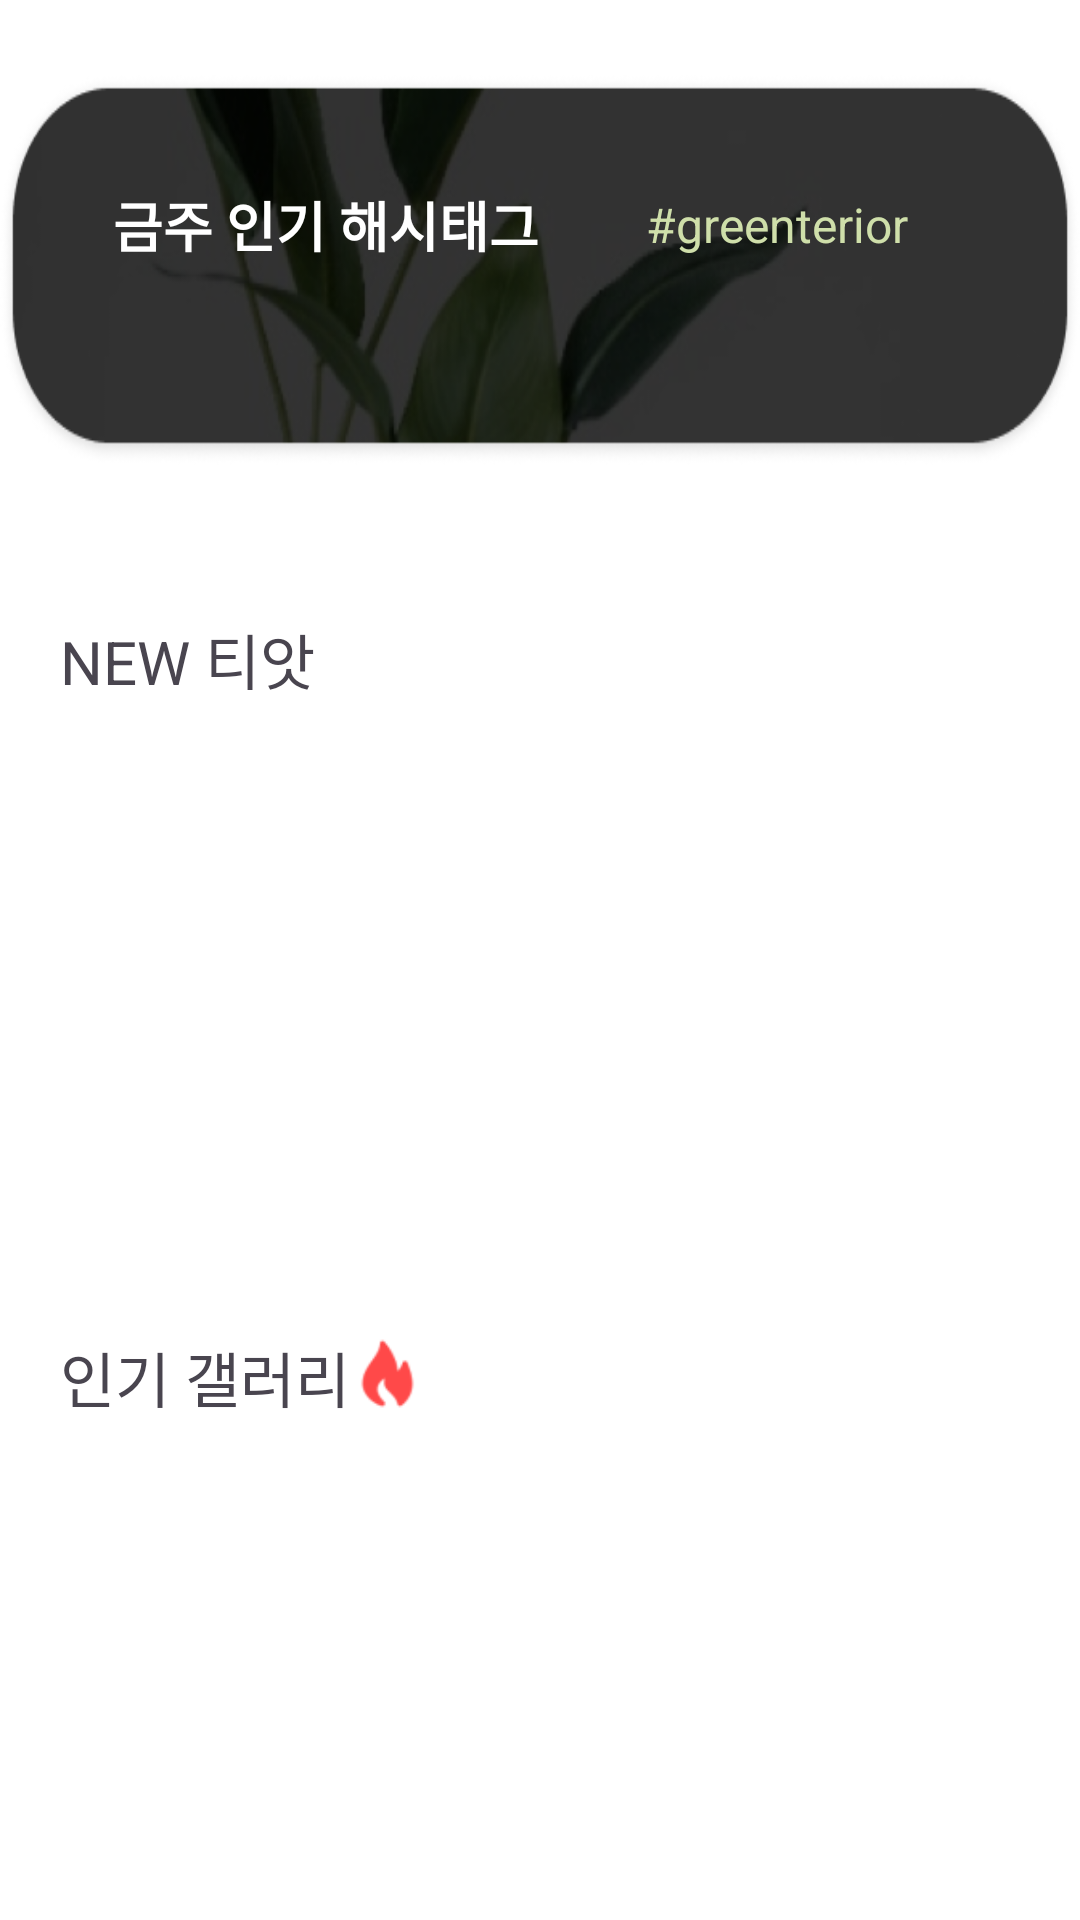

Screen size 1080 x 1920. Icon name, then its box in pixels as (x1, y1, x2, y2):
fire: (361, 1340, 414, 1407)
